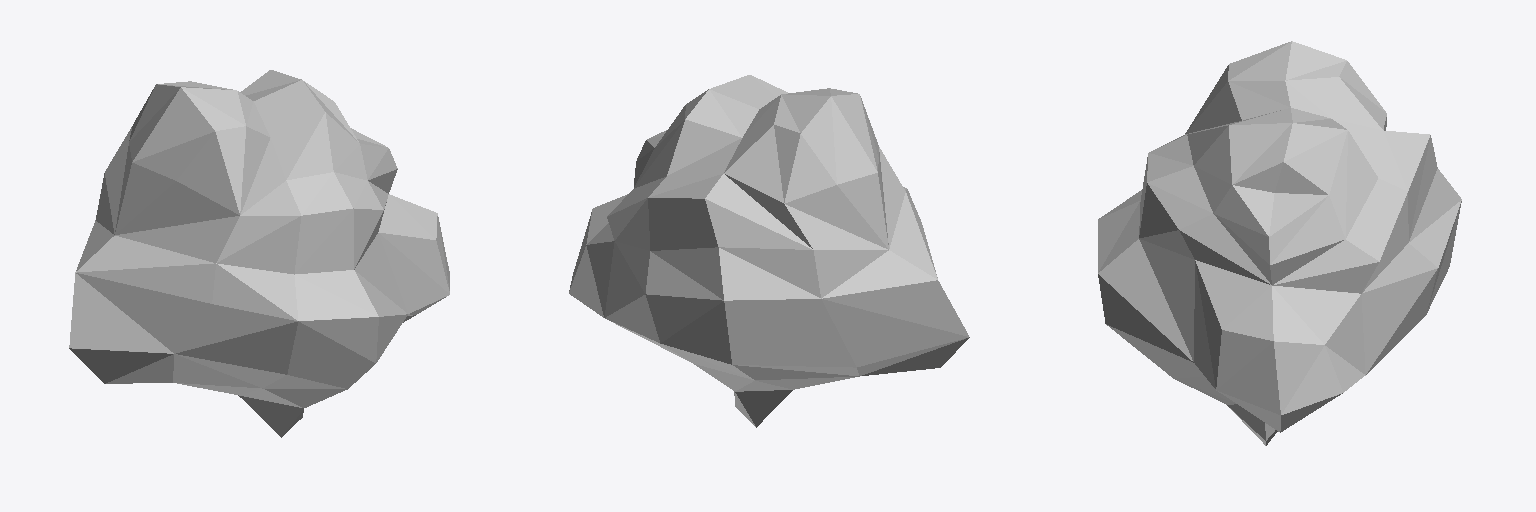
The model's file is leaves_01.obj.
3 views of the same model, side by side, from view 1: azimuth 30°, elevation 25°; view 2: azimuth 150°, elevation 25°; view 3: azimuth 270°, elevation 25° (orthographic).
Size of the model in its own units: 5.7 by 5.08 by 4.63.